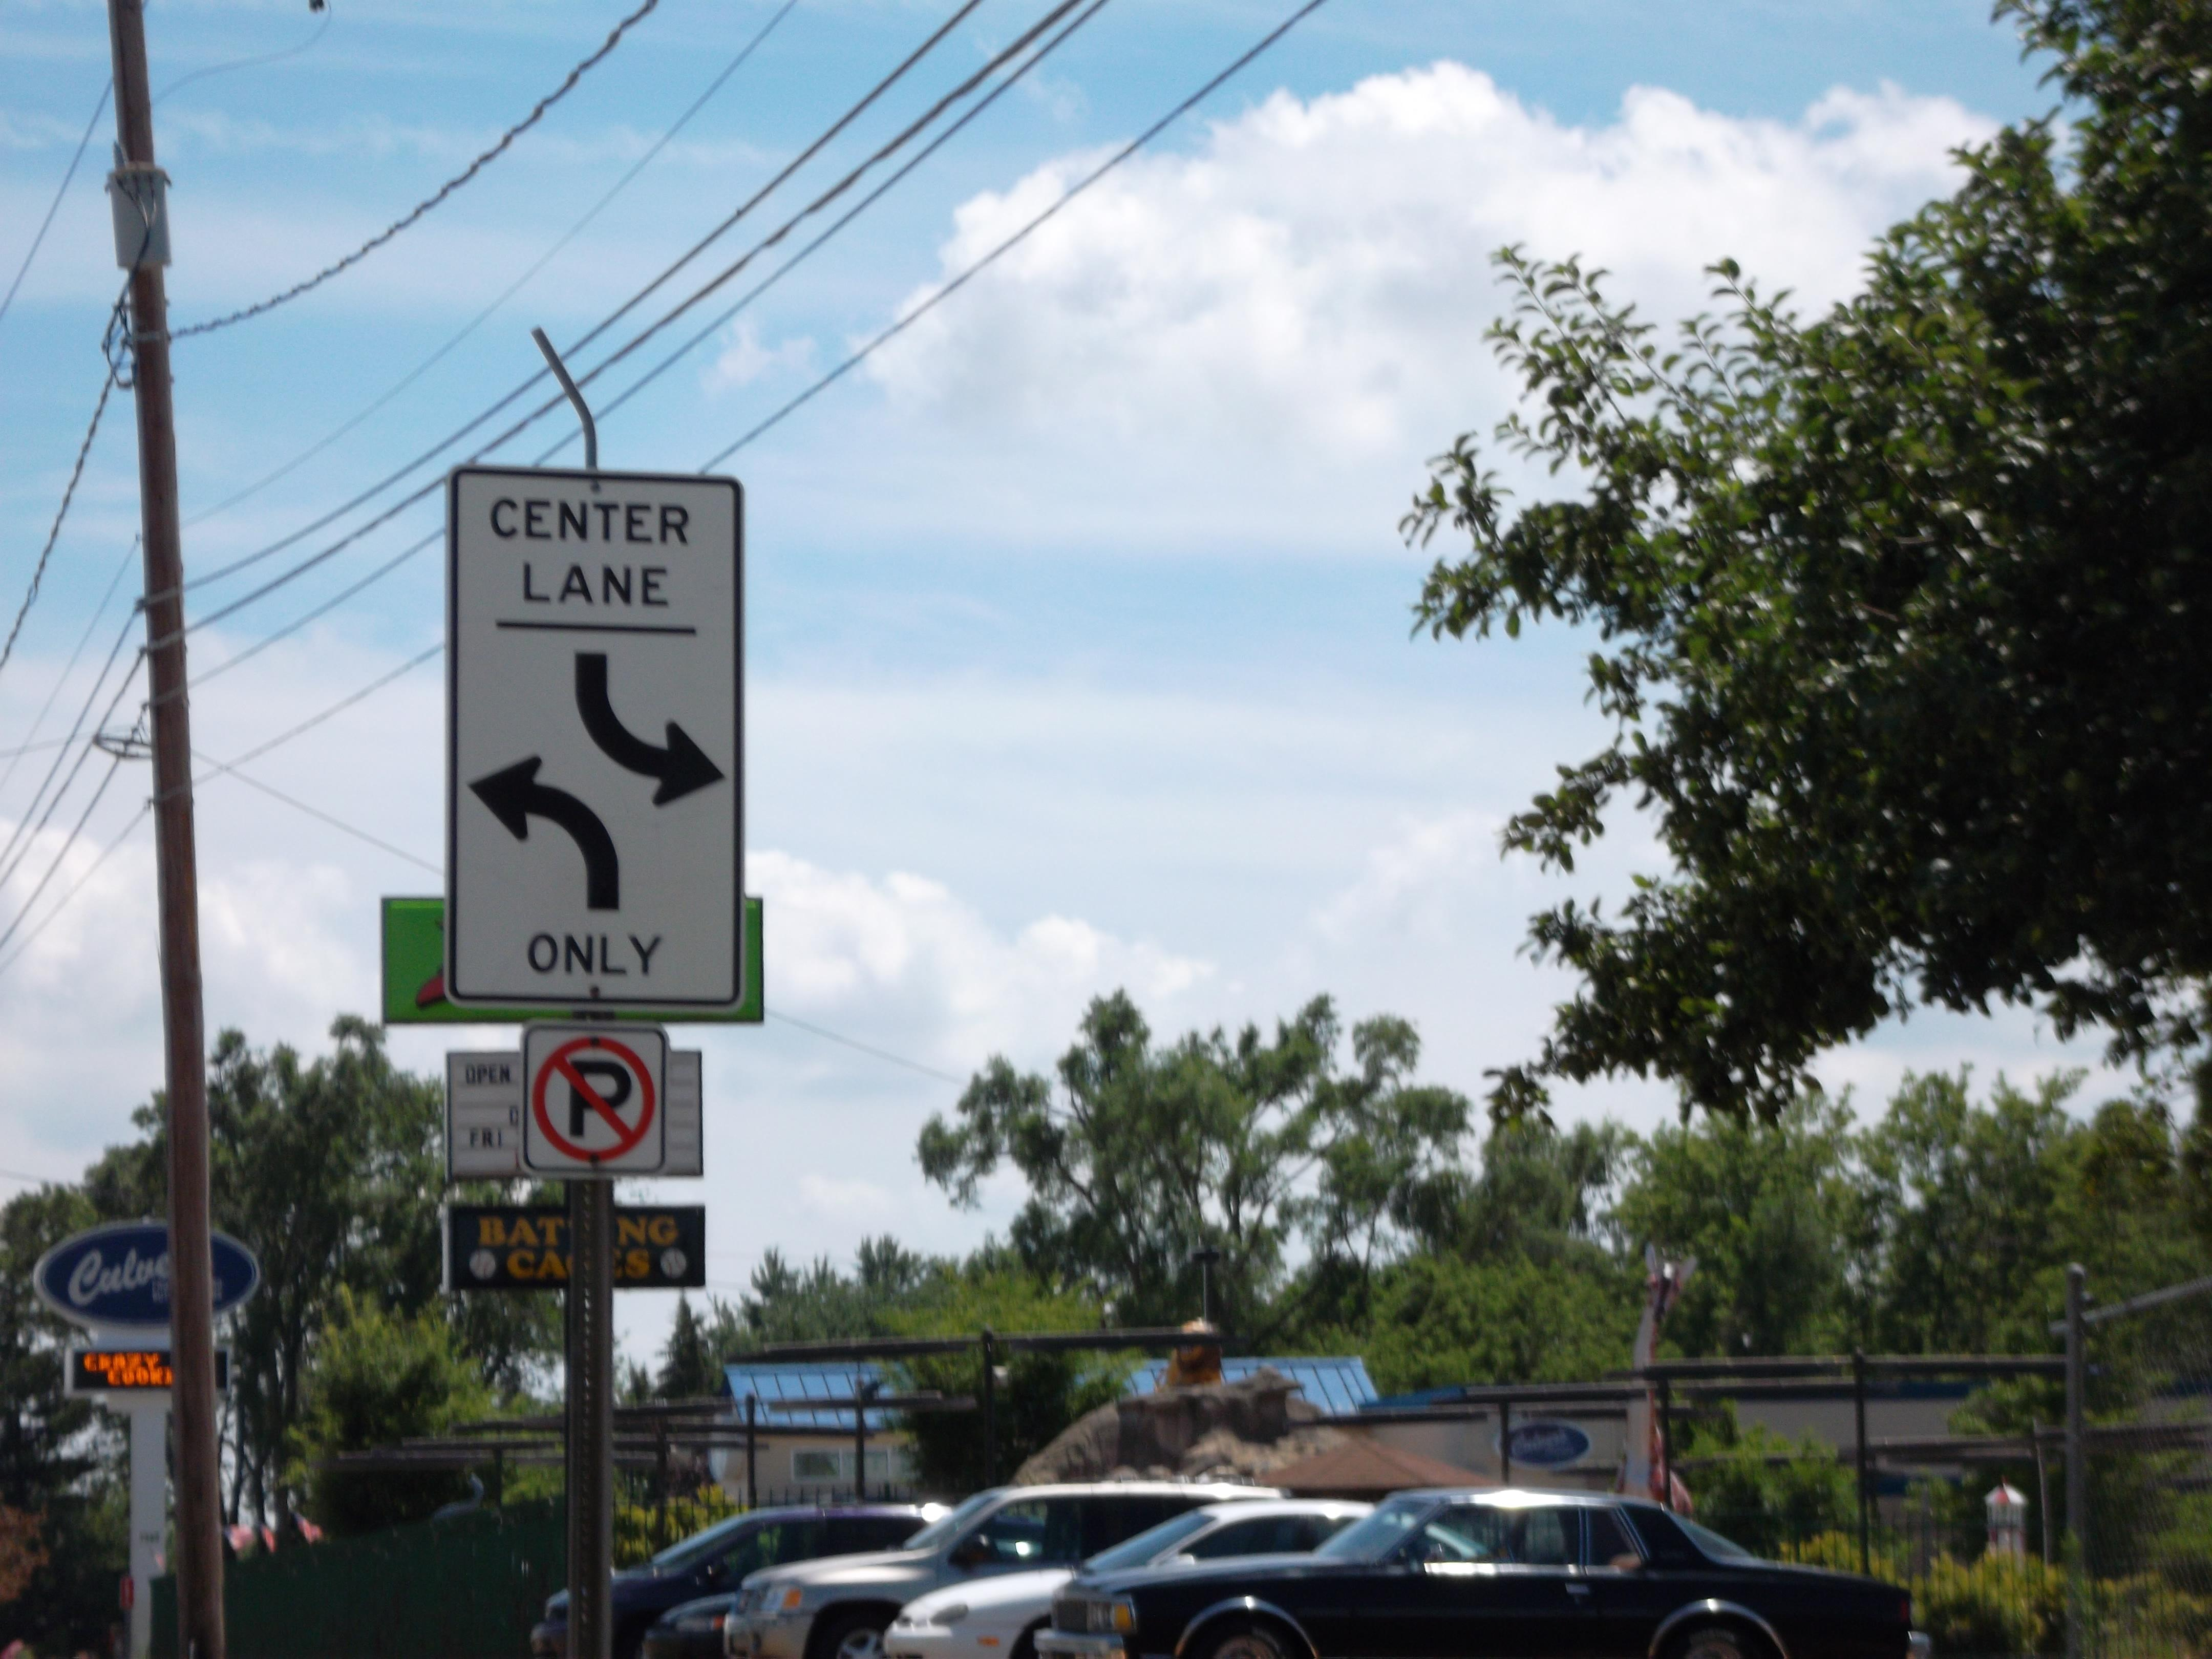regulatory: (441, 467, 752, 1014), (517, 1019, 671, 1178)
